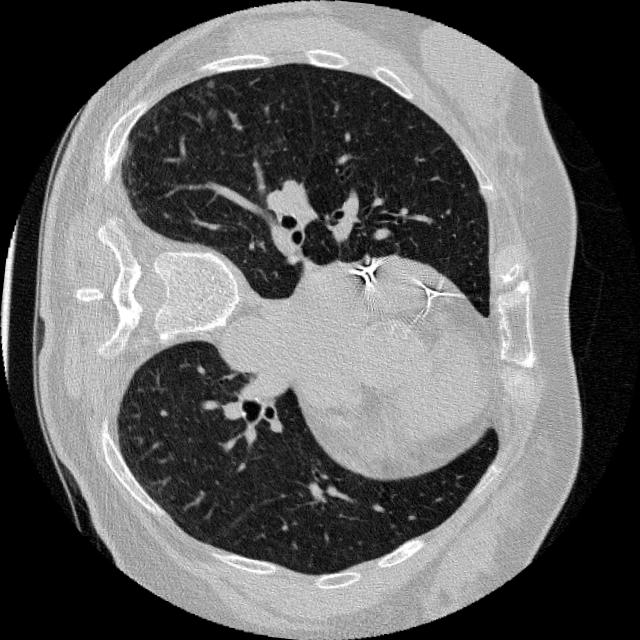nodule: (200, 100, 224, 124)
